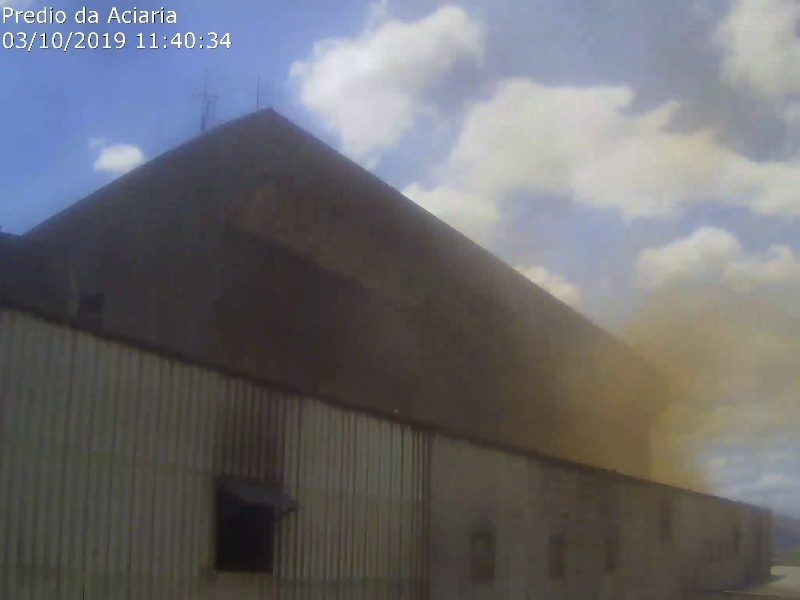bom: (6, 9, 266, 157)
pessimo: (245, 39, 800, 489)
